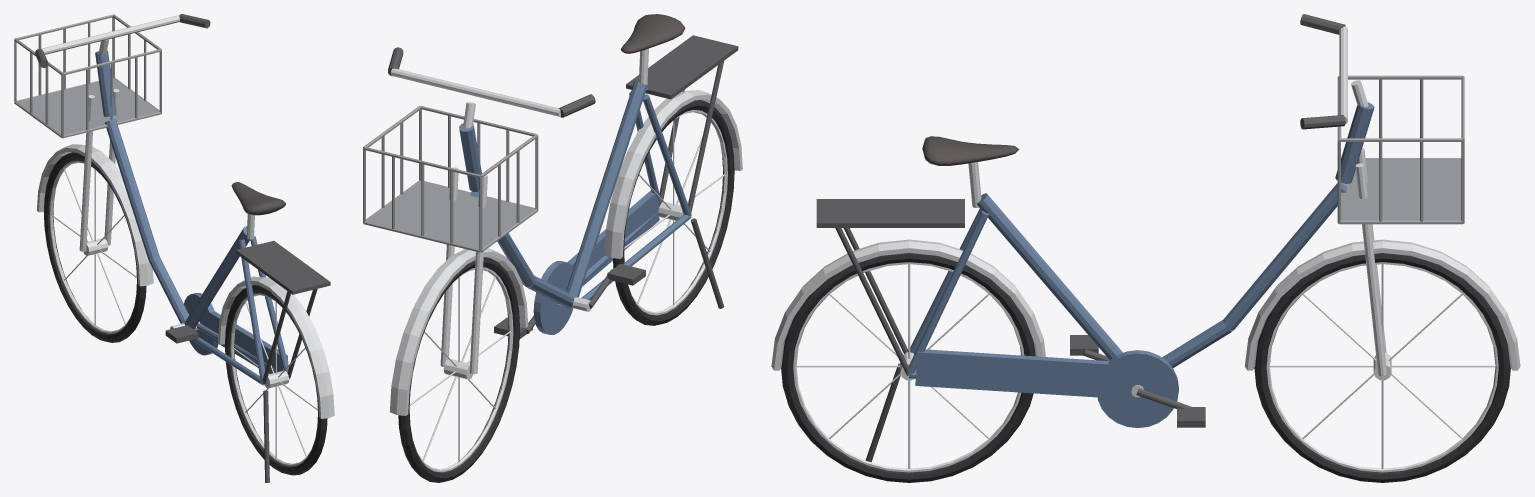
File: bicycle.glb
3 renders of one model, left to right at view 1: azimuth 30°, elevation 25°; view 2: azimuth 150°, elevation 25°; view 3: azimuth 270°, elevation 25°, orthographic. The views are drawn at different scales.
Visible parts, largest first — view 1: bk_bkbottom, bk_wr_fender, bk_wf_tire, bk_wf_fender, bk_wr_tire, bk_rack, bk_dt1, bk_stube, bk_chaincase2, bk_fork_r, bk_bar, bk_saddle (+13 smaller); view 2: bk_bkbottom, bk_wf_fender, bk_wr_fender, bk_wf_tire, bk_wr_tire, bk_stube, bk_rack, bk_chaincase, bk_chaincase2, bk_saddle, bk_bar, bk_wf_rim (+17 smaller); view 3: bk_wf_tire, bk_chaincase2, bk_wr_tire, bk_bkbottom, bk_wf_fender, bk_wr_fender, bk_rack, bk_chaincase, bk_stube, bk_dt1, bk_wf_rim, bk_wr_rim (+8 smaller).
Boxes of the visible parts, box(x1,y1,x2,y2) form: bk_bkbottom: box(16, 78, 159, 135); bk_wr_fender: box(218, 276, 334, 418); bk_wf_tire: box(43, 152, 146, 342); bk_wf_fender: box(37, 144, 153, 286); bk_wr_tire: box(225, 285, 327, 475); bk_rack: box(236, 240, 330, 294); bk_dt1: box(104, 119, 159, 260); bk_stube: box(184, 226, 249, 329); bk_chaincase2: box(201, 310, 288, 373); bk_fork_r: box(79, 95, 94, 251); bk_bar: box(41, 15, 179, 54); bk_saddle: box(231, 182, 285, 215); bk_bkbottom: box(366, 181, 535, 248); bk_wf_fender: box(389, 248, 528, 415); bk_wr_fender: box(604, 90, 742, 258); bk_wf_tire: box(398, 257, 519, 482); bk_wr_tire: box(613, 100, 734, 325); bk_stube: box(566, 81, 647, 297); bk_rack: box(626, 35, 738, 99); bk_chaincase: box(533, 261, 573, 334); bk_chaincase2: box(567, 190, 659, 286); bk_saddle: box(621, 14, 685, 53); bk_bar: box(391, 68, 560, 116); bk_wf_rim: box(414, 267, 513, 472); bk_wf_tire: box(1254, 253, 1510, 482); bk_chaincase2: box(915, 349, 1131, 399); bk_wr_tire: box(781, 253, 1035, 482); bk_bkbottom: box(1341, 158, 1461, 220); bk_wf_fender: box(1245, 239, 1520, 370); bk_wr_fender: box(771, 239, 1045, 370); bk_rack: box(816, 199, 964, 227); bk_chaincase: box(1097, 350, 1178, 427); bk_stube: box(977, 193, 1122, 359); bk_dt1: box(1223, 182, 1346, 330); bk_wf_rim: box(1266, 262, 1498, 472); bk_wr_rim: box(793, 262, 1024, 472).
Bounding box in the file's own units: 0.625 × 1.12 × 1.82.
